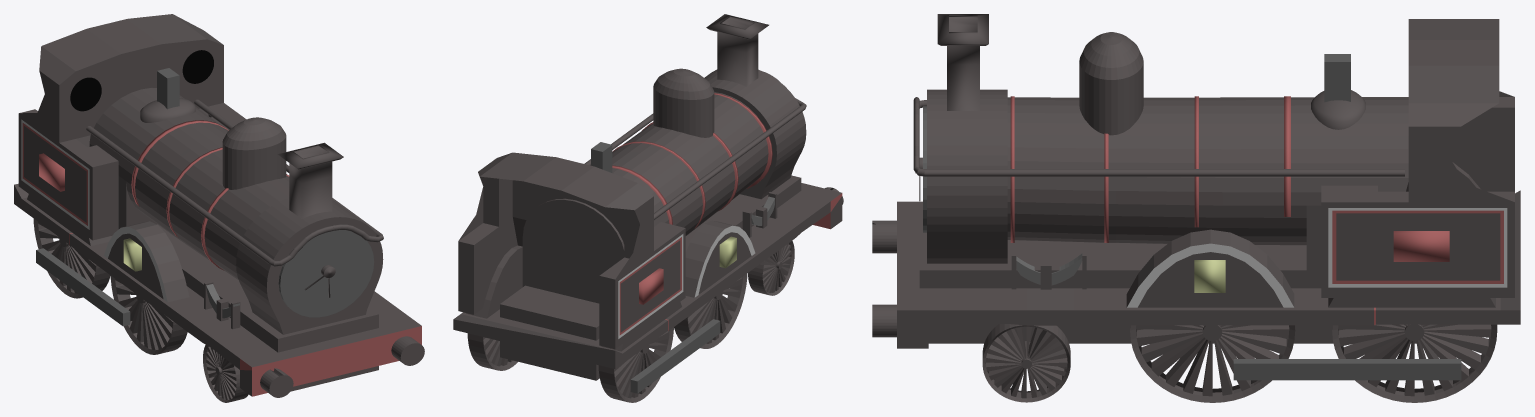
The model's file is lnwr-jumbo.dae.
The picture shows the model from 3 angles, left to right: view 1: azimuth 30°, elevation 25°; view 2: azimuth 150°, elevation 25°; view 3: azimuth 270°, elevation 25°; orthographic projection. The views are drawn at different scales.
Visible parts, largest first — view 1: Cube_006, Cylinder_019, Cube_003, Cylinder_020, Cube_007, Cube_004, Cylinder_013, Cylinder_017, Cube_001, Cylinder_014, Cylinder_012, Cylinder_015 (+11 smaller); view 2: Cube_006, Cylinder_019, Cube_003, Cube_004, Cylinder_013, Cylinder_020, Cylinder_017, Cylinder_015, Cube_001, Cylinder_012, Cube_009, Cylinder_014 (+7 smaller); view 3: Cylinder_019, Cube_006, Cube_003, Cylinder_020, Cube_004, Cylinder_013, Cylinder_012, Cylinder_015, Cylinder_008, Cylinder_017, Cube_009, Cylinder_014 (+9 smaller).
Part boxes in pixels (box(x1,y1,x2,y2)): Cube_006: box(18, 14, 246, 240); Cylinder_019: box(89, 88, 289, 279); Cube_003: box(14, 183, 424, 397); Cylinder_020: box(236, 198, 383, 334); Cube_007: box(278, 230, 374, 317); Cube_004: box(157, 224, 378, 391); Cylinder_013: box(27, 194, 189, 302); Cylinder_017: box(222, 117, 286, 189); Cube_001: box(277, 142, 343, 218); Cylinder_014: box(86, 99, 383, 266); Cylinder_012: box(110, 276, 187, 354); Cylinder_015: box(33, 219, 110, 298); Cube_006: box(458, 152, 685, 349); Cylinder_019: box(522, 92, 768, 303); Cube_003: box(453, 183, 843, 369); Cube_004: box(500, 175, 801, 380); Cylinder_013: box(466, 220, 755, 351); Cylinder_020: box(704, 69, 806, 199); Cylinder_017: box(653, 68, 714, 137); Cylinder_015: box(467, 327, 673, 402); Cube_001: box(706, 14, 768, 86); Cylinder_012: box(674, 273, 747, 348); Cube_009: box(630, 319, 720, 393); Cylinder_014: box(584, 72, 806, 219); Cylinder_019: box(1007, 97, 1408, 282); Cube_006: box(1321, 19, 1514, 297); Cube_003: box(872, 190, 1520, 348); Cylinder_020: box(927, 89, 1007, 263); Cube_004: box(919, 205, 1481, 343); Cylinder_013: box(1126, 162, 1495, 307); Cylinder_012: box(1130, 325, 1295, 402); Cylinder_015: box(1332, 324, 1497, 402); Cylinder_008: box(982, 324, 1070, 402); Cylinder_017: box(1079, 32, 1143, 135); Cube_009: box(1233, 359, 1461, 380); Cylinder_014: box(913, 97, 1404, 176).
Size of the model in its own units: 1.86 by 4.57 by 2.55.
